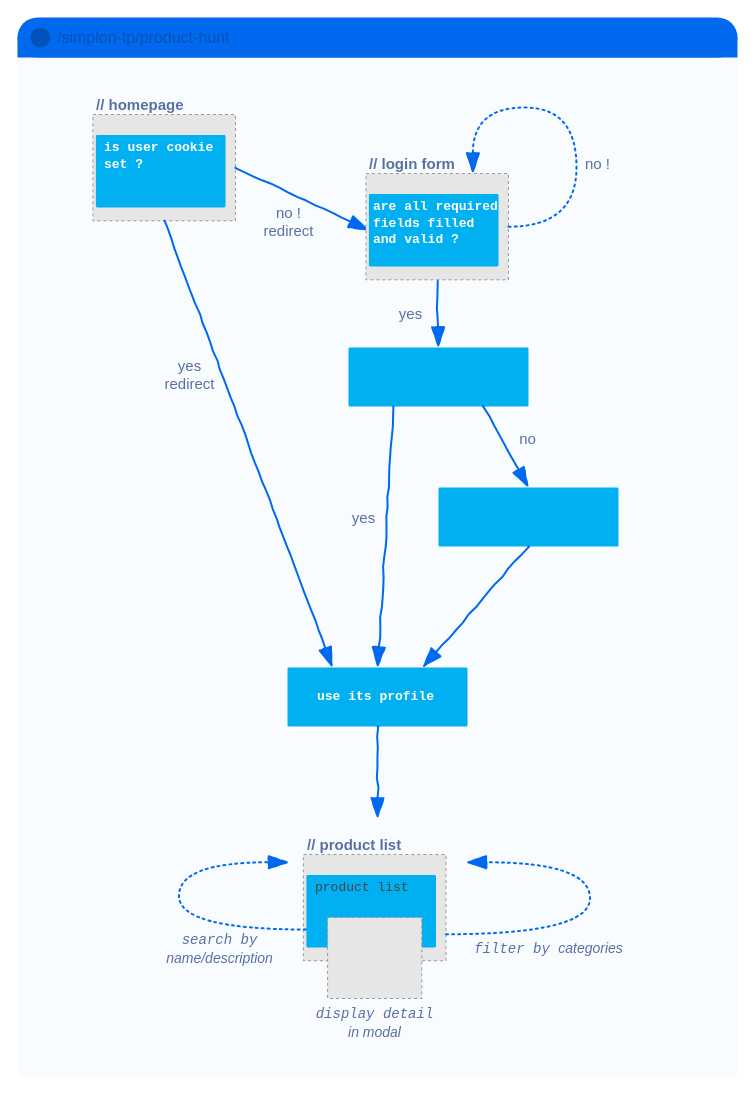
Some shapes in this 754 by 1094 pixel diagram are drawn without their labels. Grey dashed boxes stand in for pictures. The centre of each missing label's shape, as x and y in pixels:
"add to db" goes at (528,516).
"is it a known user ?" goes at (438,376).
